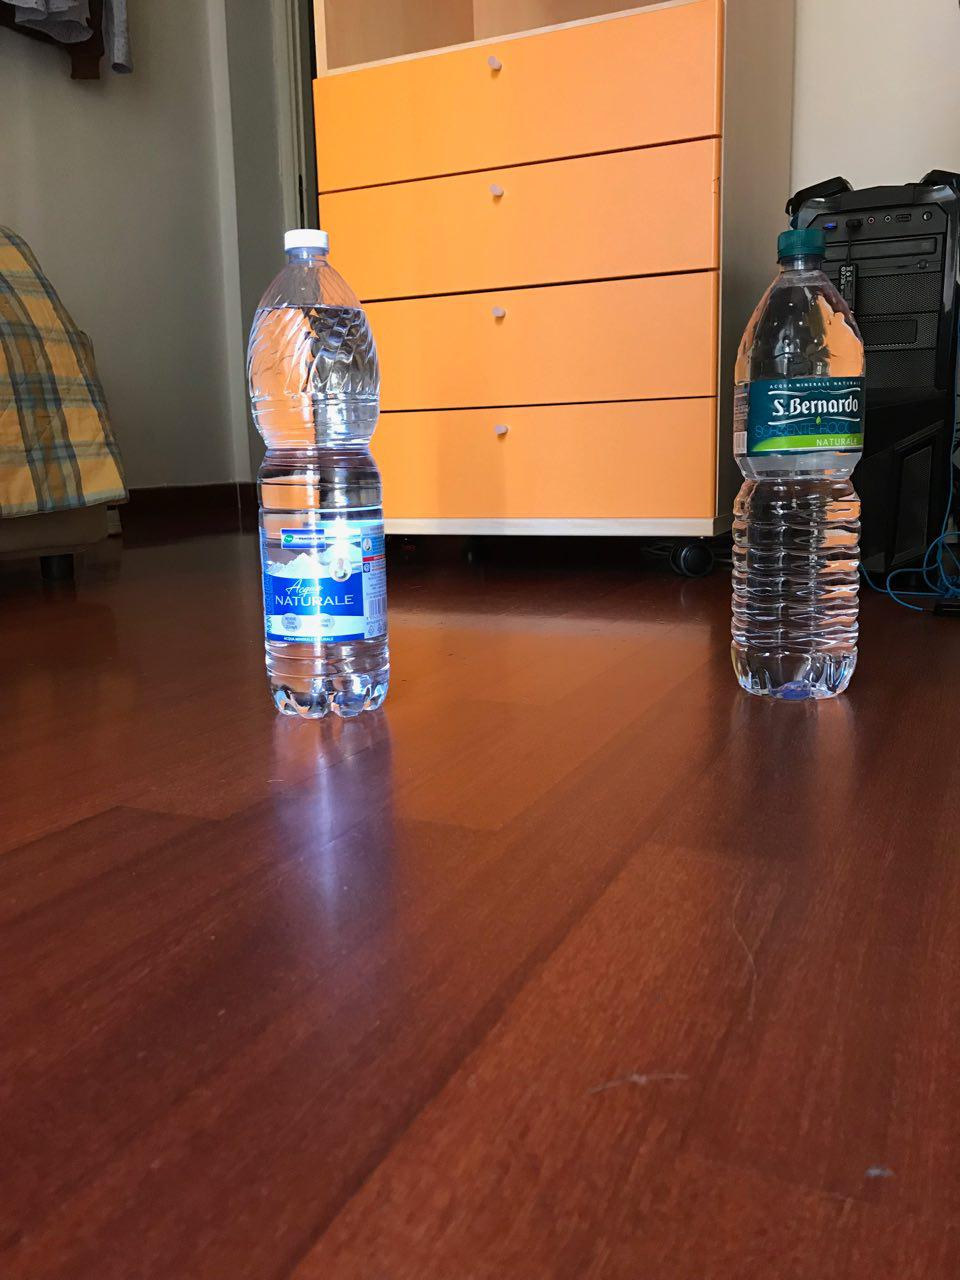san_bernardo: (731, 226, 864, 701)
